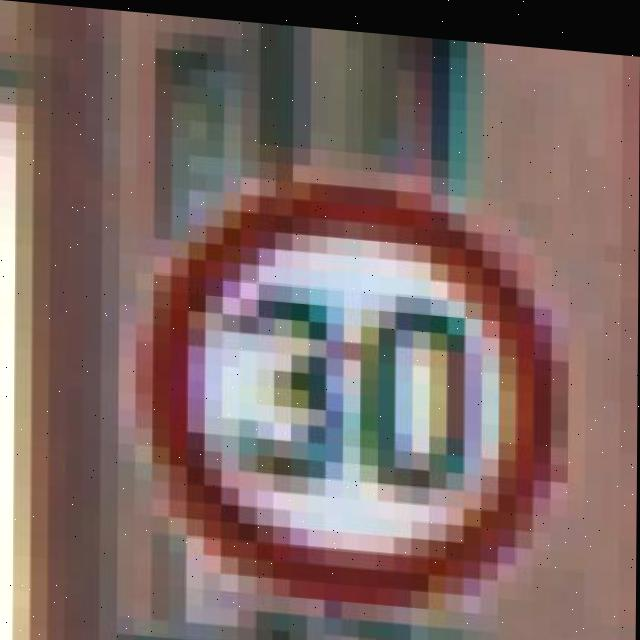Speed limit 30: (145, 158, 566, 614)
